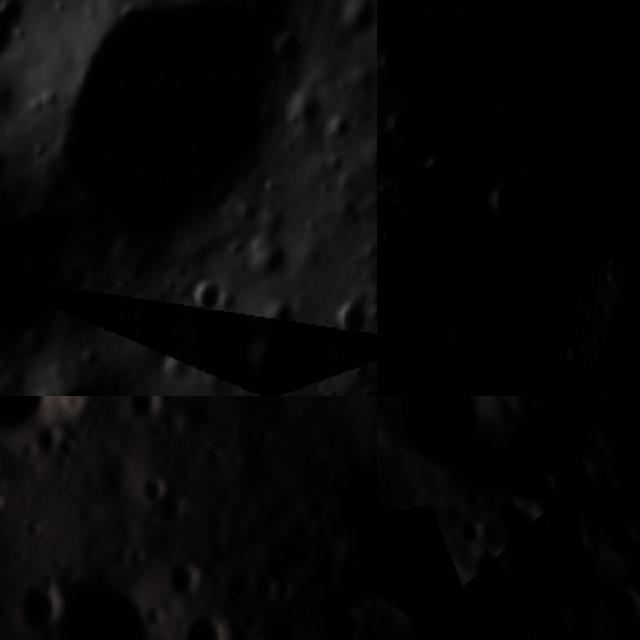crater: (48, 0, 303, 243), (432, 261, 575, 396), (45, 556, 194, 640), (556, 248, 640, 381), (385, 396, 512, 480), (398, 137, 487, 226), (314, 426, 377, 549), (0, 396, 113, 460), (492, 490, 570, 570), (476, 160, 546, 238), (533, 450, 617, 512), (9, 568, 72, 640), (493, 17, 562, 81), (421, 50, 479, 114), (246, 327, 300, 389), (483, 88, 539, 140), (332, 288, 376, 347), (175, 603, 243, 640), (163, 554, 207, 610), (465, 0, 514, 50), (600, 573, 640, 631), (414, 0, 468, 40), (52, 372, 133, 396), (129, 465, 173, 508), (0, 0, 27, 70), (377, 36, 414, 87), (268, 570, 309, 616), (122, 396, 177, 430), (568, 164, 612, 206), (193, 275, 233, 318), (533, 99, 573, 140), (246, 568, 285, 610), (29, 424, 66, 464), (377, 370, 424, 396), (267, 298, 304, 331), (15, 514, 50, 548), (124, 540, 156, 573), (54, 431, 85, 465), (558, 190, 588, 220), (553, 396, 596, 413), (0, 482, 11, 525)
